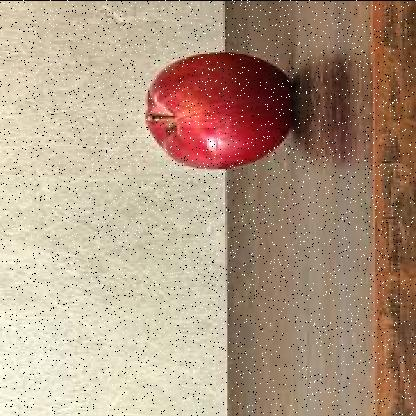apple: (136, 48, 314, 171)
